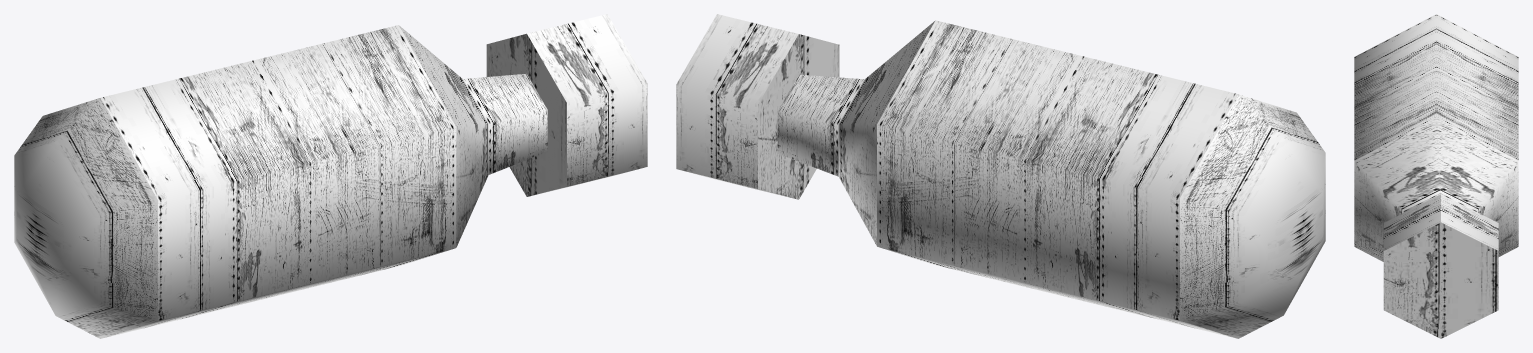
Rendered from bomb_block.obj.
3 views of the same model, side by side, from view 1: azimuth 30°, elevation 25°; view 2: azimuth 150°, elevation 25°; view 3: azimuth 270°, elevation 25° (orthographic). The views are drawn at different scales.
Parts seen in each view (by area): view 1: Mesh1 Model; view 2: Mesh1 Model; view 3: Mesh1 Model.
Part boxes in pixels (x1,y1,x2,y2): Mesh1 Model: [14, 14, 647, 338]; Mesh1 Model: [676, 14, 1325, 338]; Mesh1 Model: [1354, 14, 1518, 338].
Bounding box in the file's own units: 2.5 × 1 × 0.866.
